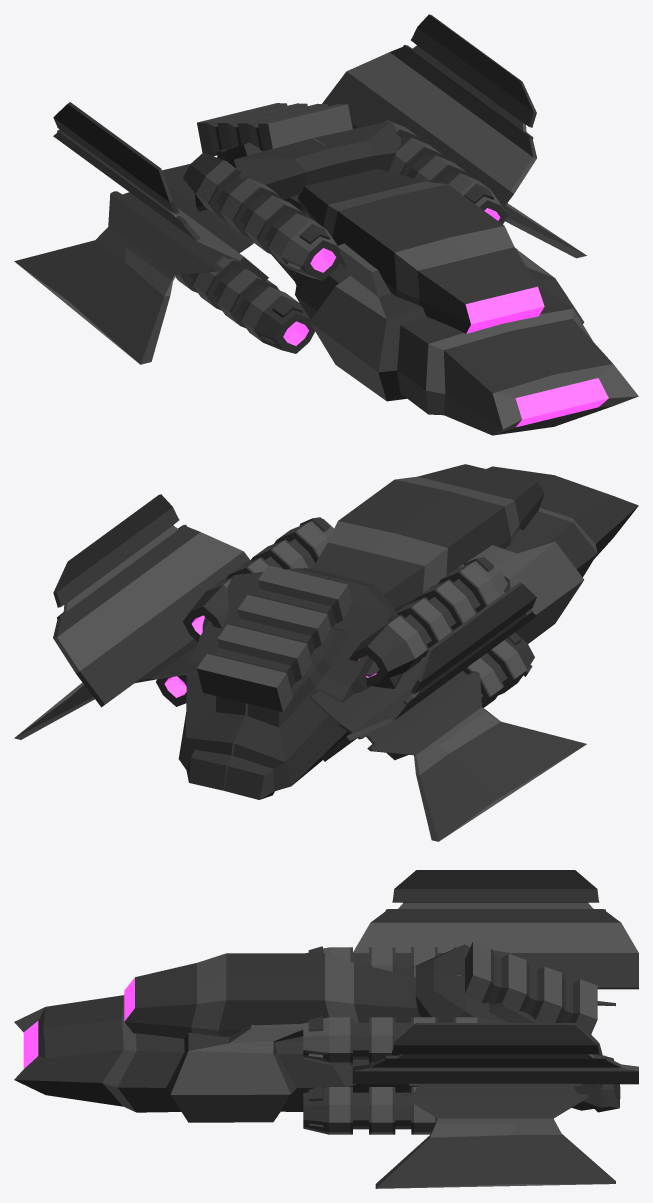
The model's file is spaceship 3 black.fbx.
The picture shows the model from 3 angles, top to bottom: view 1: azimuth 30°, elevation 25°; view 2: azimuth 150°, elevation 25°; view 3: azimuth 270°, elevation 25°; orthographic projection. The views are drawn at different scales.
Parts seen in each view (by area): view 1: Cube.018; view 2: Cube.018; view 3: Cube.018.
Boxes of the visible parts, bbox=[...] form: Cube.018: bbox=[14, 14, 638, 435]; Cube.018: bbox=[14, 464, 638, 841]; Cube.018: bbox=[14, 870, 638, 1188].
Bounding box in the file's own units: 691 × 255 × 958.
